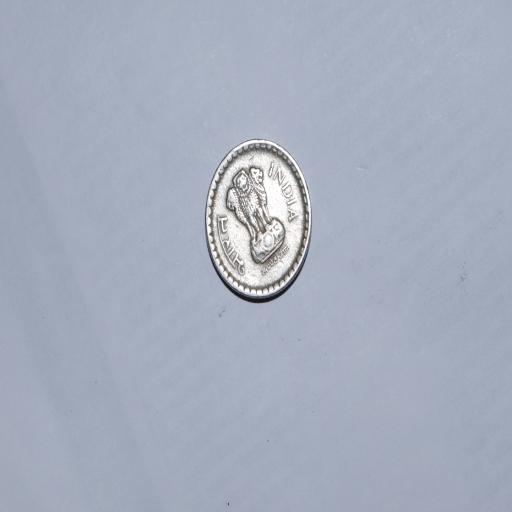rupee5: (202, 136, 315, 303)
